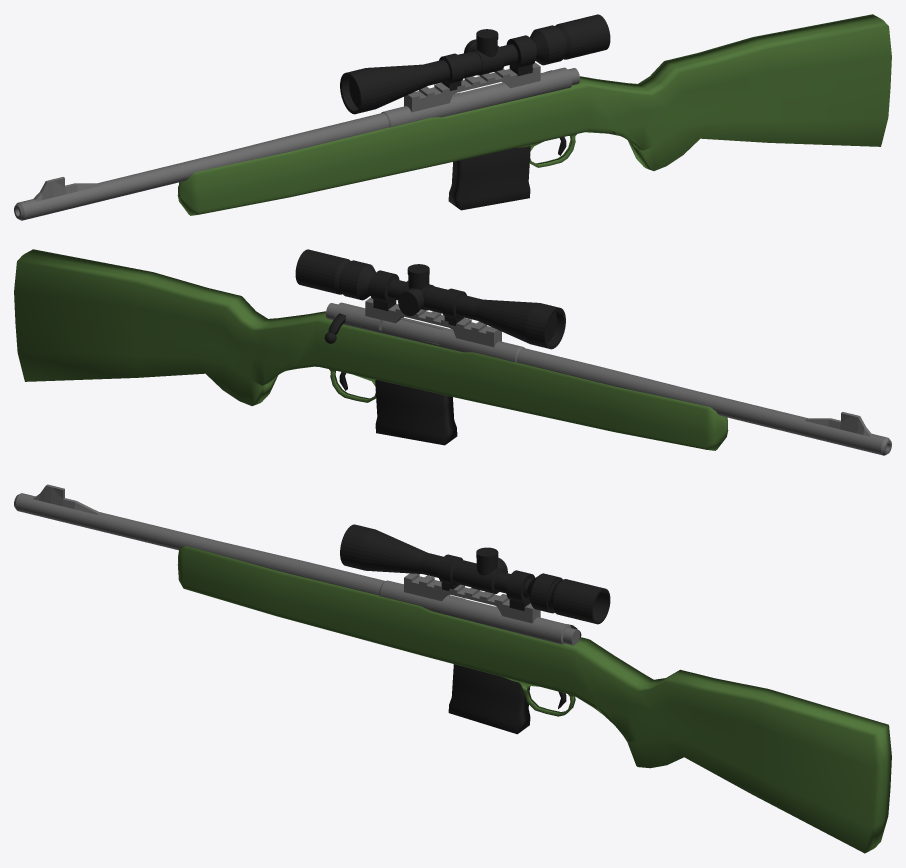
The model's file is Sniper Rifle (1).fbx.
The picture shows the model from 3 angles, top to bottom: view 1: azimuth 30°, elevation 25°; view 2: azimuth 150°, elevation 25°; view 3: azimuth 330°, elevation 25°; orthographic projection.
Visible parts, largest first — view 1: Body, Barrel, Scope, Mag; view 2: Body, Barrel, Scope, Mag, Cylinder; view 3: Body, Barrel, Scope, Mag.
Part boxes in pixels (x1=…): Body: x1=177, y1=14, x2=891, y2=215; Barrel: x1=14, y1=62, x2=579, y2=220; Scope: x1=340, y1=14, x2=610, y2=114; Mag: x1=448, y1=146, x2=530, y2=210; Body: x1=14, y1=249, x2=728, y2=450; Barrel: x1=326, y1=297, x2=891, y2=455; Scope: x1=295, y1=249, x2=565, y2=349; Mag: x1=375, y1=380, x2=457, y2=445; Cylinder: x1=398, y1=288, x2=423, y2=316; Body: x1=177, y1=546, x2=891, y2=853; Barrel: x1=14, y1=484, x2=579, y2=645; Scope: x1=340, y1=524, x2=610, y2=624; Mag: x1=448, y1=664, x2=530, y2=734.
Size of the model in its own units: 644 by 143 by 36.92.
